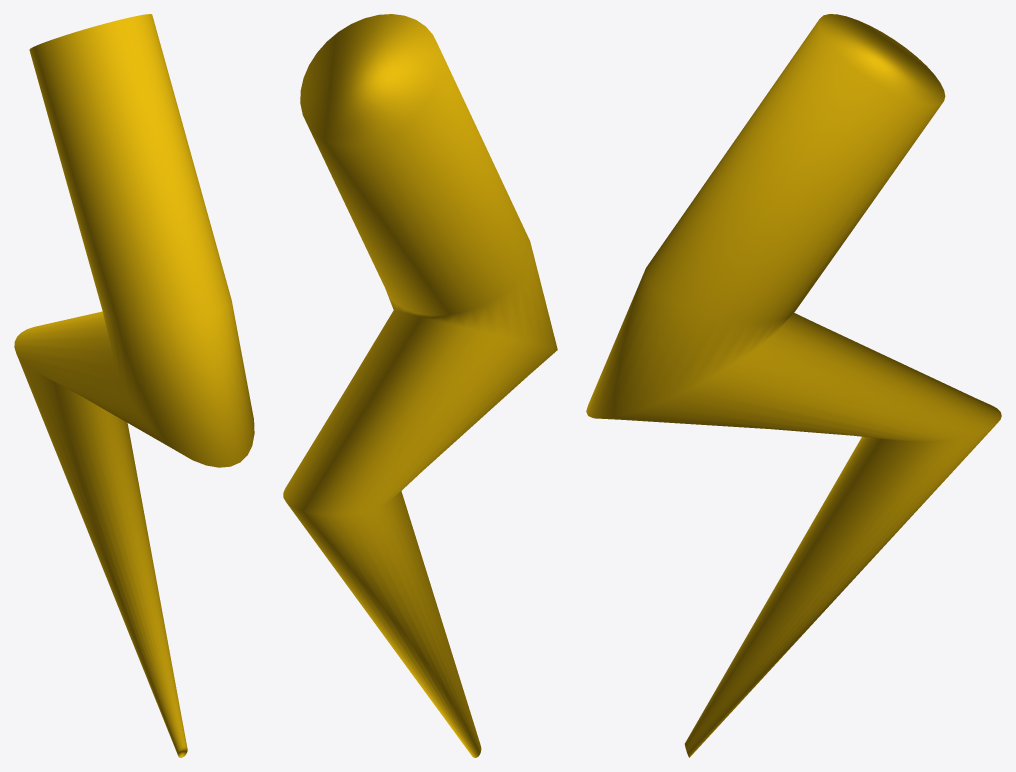
File: LIGHTNING.fbx
3 views of the same model, side by side, from view 1: azimuth 30°, elevation 25°; view 2: azimuth 150°, elevation 25°; view 3: azimuth 270°, elevation 25° (orthographic). The views are drawn at different scales.
Visible parts, largest first — view 1: Cylinder; view 2: Cylinder; view 3: Cylinder.
Boxes of the visible parts, x1,y1,x2,y2 form: Cylinder: (14, 14, 254, 757); Cylinder: (283, 14, 557, 757); Cylinder: (586, 14, 1001, 757).
Size of the model in its own units: 45.79 by 282 by 145.
